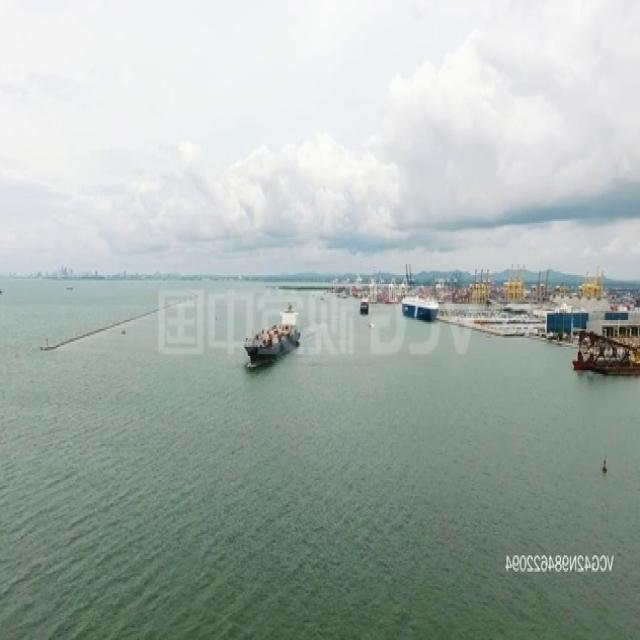cargoship: (242, 302, 300, 364)
